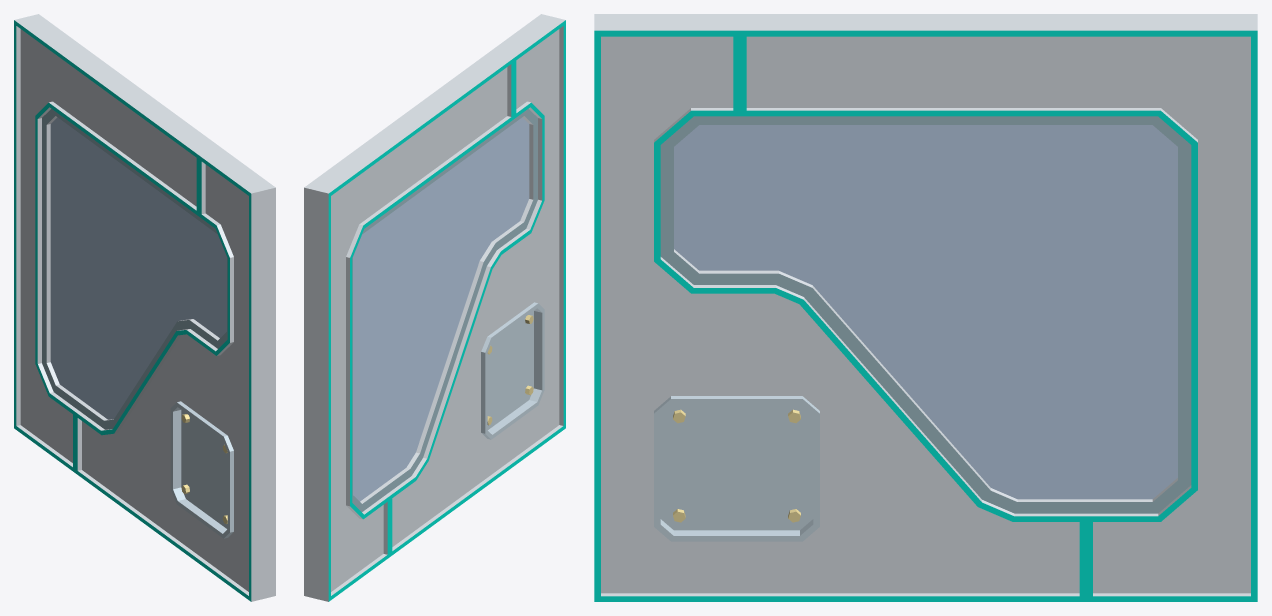
Rendered from window-04.fbx.
The picture shows the model from 3 angles, left to right: view 1: azimuth 30°, elevation 25°; view 2: azimuth 150°, elevation 25°; view 3: azimuth 270°, elevation 25°; orthographic projection. The views are drawn at different scales.
Visible parts, largest first — view 1: window-04; view 2: window-04; view 3: window-04.
Boxes of the visible parts, x1=… form: window-04: x1=14, y1=14, x2=275, y2=601; window-04: x1=304, y1=14, x2=565, y2=601; window-04: x1=594, y1=14, x2=1257, y2=601.
Size of the model in its own units: 6 by 95 by 100.
